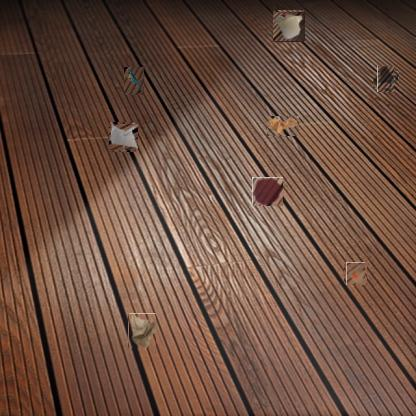dirty: (128, 313, 156, 348), (274, 11, 304, 41), (109, 123, 137, 151), (267, 116, 299, 136), (124, 67, 144, 95), (345, 263, 366, 284)
liquid: (252, 177, 283, 206), (375, 69, 397, 90)
